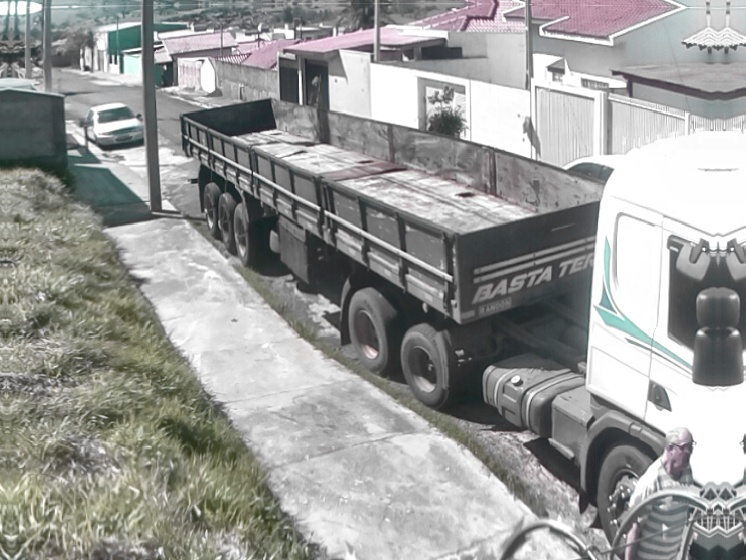person: (623, 425, 746, 560)
